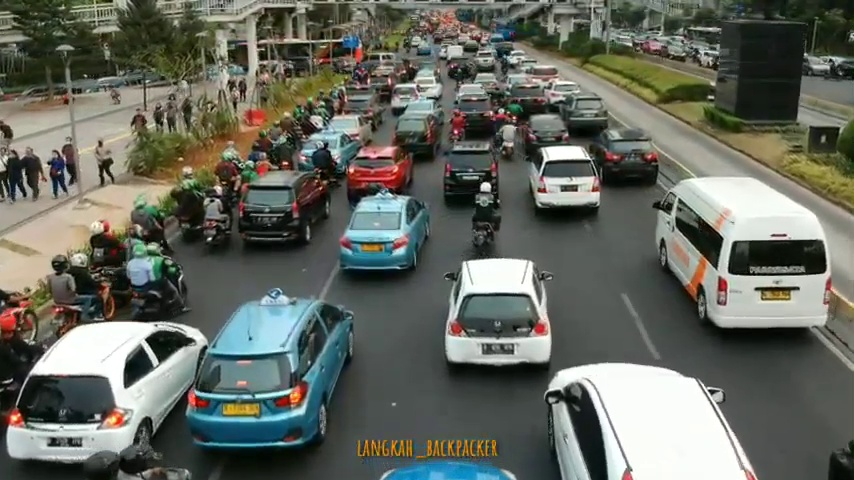car: (7, 312, 210, 456), (655, 177, 830, 335), (189, 285, 350, 455), (547, 364, 756, 480), (447, 256, 553, 375), (340, 189, 430, 275), (241, 168, 332, 245), (529, 146, 602, 219), (591, 127, 660, 190), (349, 142, 413, 194), (302, 129, 356, 172), (560, 91, 609, 138), (394, 114, 442, 160), (522, 114, 570, 157), (458, 96, 495, 139), (328, 115, 372, 144), (510, 83, 546, 116), (546, 80, 581, 109), (393, 84, 423, 110)
motorbike: (51, 254, 120, 342), (129, 240, 192, 317), (87, 220, 129, 298), (129, 197, 176, 262), (471, 179, 499, 258), (202, 185, 234, 252), (174, 181, 206, 240), (312, 140, 343, 189), (218, 152, 241, 200), (501, 118, 516, 164), (276, 138, 295, 173), (450, 108, 465, 150)
